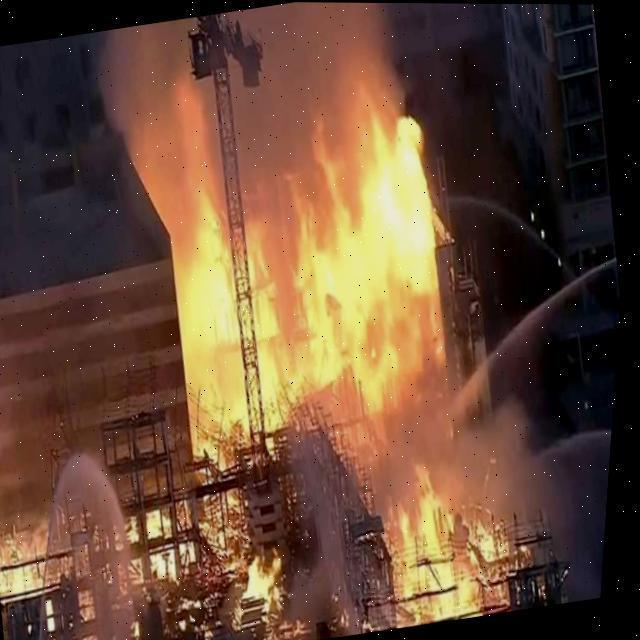fire: (174, 111, 447, 466), (399, 513, 521, 628)
smoke: (340, 309, 611, 594), (109, 2, 389, 255)
